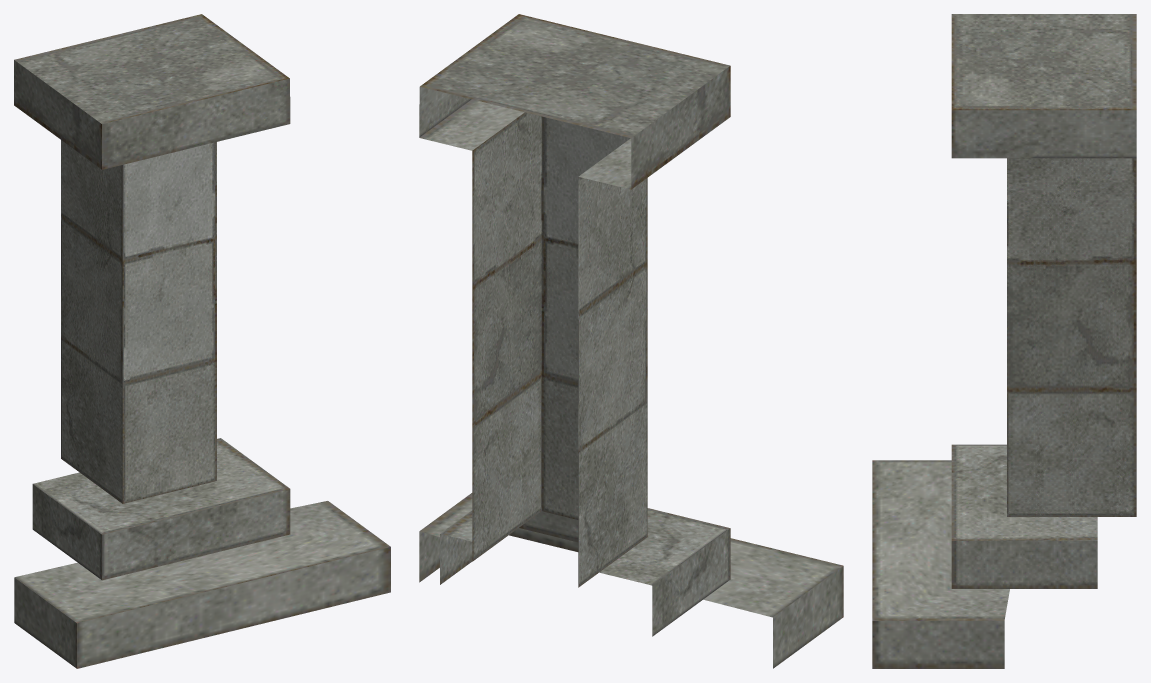
Rendered from plinth_lrg.fbx.
3 views of the same model, side by side, from view 1: azimuth 30°, elevation 25°; view 2: azimuth 150°, elevation 25°; view 3: azimuth 270°, elevation 25° (orthographic). The views are drawn at different scales.
Parts seen in each view (by area): view 1: plinth_lrg; view 2: plinth_lrg; view 3: plinth_lrg.
Boxes of the visible parts, x1=… form: plinth_lrg: x1=14, y1=14, x2=390, y2=668; plinth_lrg: x1=419, y1=14, x2=843, y2=668; plinth_lrg: x1=872, y1=14, x2=1136, y2=668.
Bounding box in the file's own units: 72 × 110 × 50.
